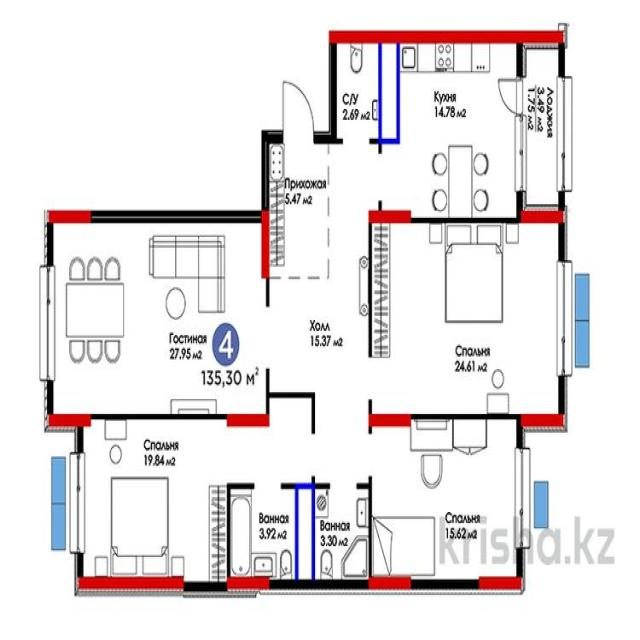balcony: (520, 36, 563, 216)
bathroom: (230, 486, 302, 586), (310, 484, 370, 584), (335, 37, 382, 144)
hallway: (266, 134, 371, 275), (267, 272, 369, 397)
kitchen: (398, 36, 520, 219)
living_room: (49, 219, 268, 417), (370, 217, 561, 422), (370, 414, 518, 584), (82, 420, 229, 582)
